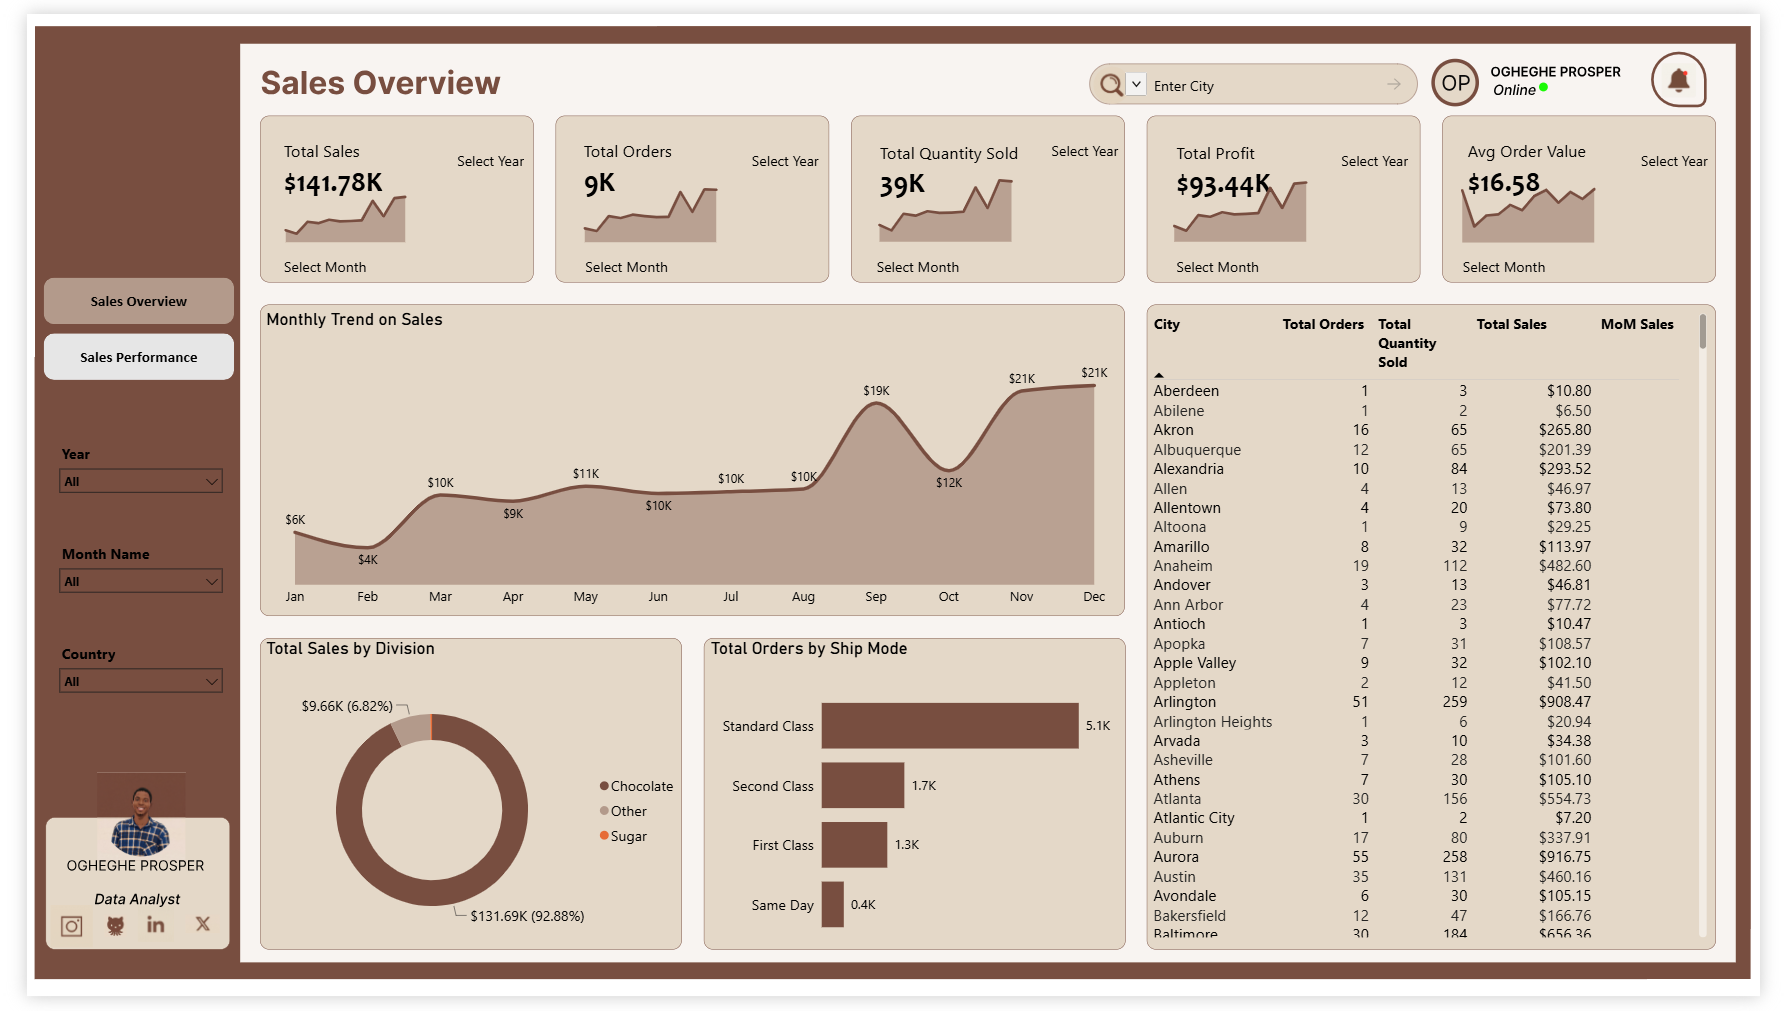

The dashboard page shown, as its layout file describes it:
{"tool":"powerbi","page":{"name":"Sales Overview","canvas":[1965,1112],"ordinal":0},"visuals":[{"type":"cardVisual","fields":{"Data":["Analysis.Total Sales"]},"box":[262.4,112.5,310.6,192.8],"z":0},{"type":"cardVisual","fields":{"Data":["Analysis.Dynamic Month Text"]},"box":[263.2,243.9,174.1,74.1],"z":1000},{"type":"cardVisual","fields":{"Data":["Time Intelligience.MoM Sales"]},"box":[384.9,239.6,147.2,81.1],"z":2000},{"type":"areaChart","fields":{"Category":["Calendar.Month No"],"Y":["Analysis.Total Sales"]},"box":[266,172,214.8,92.6],"z":3000},{"type":"cardVisual","fields":{"Data":["Analysis.Dynamic Year Text"]},"box":[459.3,122.2,140.7,74.1],"z":4000},{"type":"cardVisual","fields":{"Data":["Time Intelligience.YoY Sales"]},"box":[457.4,151.9,140.7,74.1],"z":5000},{"type":"cardVisual","fields":{"Data":["Analysis.Total Orders"]},"box":[601.3,113.6,310.6,192.8],"z":6000},{"type":"cardVisual","fields":{"Data":["Analysis.Dynamic Month Text"]},"box":[604,244,170.4,72.2],"z":7000},{"type":"cardVisual","fields":{"Data":["Time Intelligience.MoM Orders"]},"box":[724.5,239.6,150.9,73.6],"z":8000},{"type":"areaChart","fields":{"Category":["Calendar.Month No"],"Y":["Analysis.Total Orders"]},"box":[603.8,171,233.3,92.6],"z":9000},{"type":"cardVisual","fields":{"Data":["Analysis.Dynamic Year Text"]},"box":[792.6,122.2,140.7,74.1],"z":10000},{"type":"cardVisual","fields":{"Data":["Time Intelligience.YoY Orders"]},"box":[792.6,151.9,140.7,74.1],"z":11000},{"type":"cardVisual","fields":{"Data":["Analysis.Total Quantity Sold"]},"box":[937.2,114.7,310.6,192.8],"z":12000},{"type":"cardVisual","fields":{"Data":["Analysis.Dynamic Month Text"]},"box":[934,244,174.1,74.1],"z":13000},{"type":"cardVisual","fields":{"Data":["Time Intelligience.MoM Quantity Sold"]},"box":[1058.5,239.6,149.1,73.6],"z":14000},{"type":"areaChart","fields":{"Category":["Calendar.Month No"],"Y":["Analysis.Total Quantity Sold"]},"box":[938,172,234,92],"z":15000},{"type":"cardVisual","fields":{"Data":["Analysis.Dynamic Year Text"]},"box":[1131.5,111.1,140.7,74.1],"z":16000},{"type":"cardVisual","fields":{"Data":["Time Intelligience.YoY Quantity Sold"]},"box":[1132.2,151.1,140.7,74.1],"z":17000},{"type":"cardVisual","fields":{"Data":["Analysis.Total Profit"]},"box":[1273.1,114.3,310.6,192.8],"z":18000},{"type":"cardVisual","fields":{"Data":["Analysis.Dynamic Month Text"]},"box":[1273,244,172.2,74.1],"z":19000},{"type":"cardVisual","fields":{"Data":["Time Intelligience.MoM Profit"]},"box":[1403.8,239.6,150.9,73.6],"z":20000},{"type":"areaChart","fields":{"Category":["Calendar.Month No"],"Y":["Analysis.Total Profit"]},"box":[1272,172,234,92],"z":21000},{"type":"cardVisual","fields":{"Data":["Analysis.Dynamic Year Text"]},"box":[1461.1,122.2,142.6,74.1],"z":22000},{"type":"cardVisual","fields":{"Data":["Time Intelligience.YoY Profit"]},"box":[1461.1,151.9,140.7,74.1],"z":23000},{"type":"cardVisual","fields":{"Data":["Analysis.Avg Order Value"]},"box":[1604.6,112.5,310.6,192.8],"z":24000},{"type":"cardVisual","fields":{"Data":["Analysis.Dynamic Month Text"]},"box":[1598,244,172.2,74.1],"z":25000},{"type":"cardVisual","fields":{"Data":["Time Intelligience.MoM aov"]},"box":[1728.3,239.6,150.9,73.6],"z":26000},{"type":"areaChart","fields":{"Category":["Calendar.Month No"],"Y":["Analysis.Avg Order Value"]},"box":[1598,172,234,92],"z":27000},{"type":"cardVisual","fields":{"Data":["Analysis.Dynamic Year Text"]},"box":[1800,122.2,140.7,74.1],"z":28000},{"type":"cardVisual","fields":{"Data":["Time Intelligience.YoY aov"]},"box":[1800,151.9,140.7,74.1],"z":29000},{"type":"areaChart","title":"Monthly Trend on Sales ","fields":{"Category":["Calendar.Month Short"],"Y":["Analysis.Total Sales"]},"box":[266.7,333.3,981.5,346.3],"z":30000},{"type":"donutChart","fields":{"Category":["Dim_Division.Division"],"Y":["Analysis.Total Sales"]},"box":[266.7,707.4,481.5,355.6],"z":31000},{"type":"barChart","title":"Total Orders by Ship Mode","fields":{"Category":["Facts_Sales.Ship_Mode"],"Y":["Analysis.Total Orders"]},"box":[770.4,707.4,475.9,361.1],"z":32000},{"type":"tableEx","fields":{"Values":["Dim_Location.City","Analysis.Total Orders","Analysis.Total Quantity Sold","Analysis.Total Sales","Time Intelligience.MoM Sales"]},"box":[1266.7,333.3,642.6,716.7],"z":33000},{"type":"slicer","fields":{"Values":["Dim_Location.Country"]},"box":[27.2,707.4,205.6,74.1],"z":34000},{"type":"slicer","fields":{"Values":["Calendar.Month Name"]},"box":[27.2,594.4,205.6,74.1],"z":35000},{"type":"textSlicer","fields":{"Values":["Dim_Location.City"]},"box":[1232,56,342,54],"z":36000},{"type":"slicer","fields":{"Values":["Calendar.Year"]},"box":[27.2,481.5,205.6,74.1],"z":37000},{"type":"pageNavigator","box":[18,298,216,116],"z":38000},{"type":"actionButton","box":[34,1018,36,32],"z":39000},{"type":"actionButton","box":[83,1018,36,32],"z":40000},{"type":"actionButton","box":[129,1018,36,32],"z":41000},{"type":"actionButton","box":[183,1018,36,32],"z":42000}]}

Visuals, with their boxes in screenshot pixels (x1, y1, x2, y2), scaled from the page's 1965x1112 canvas onto the 1787x1011 screenshot:
cardVisual - Analysis.Total Sales: select_region(239, 102, 521, 278)
cardVisual - Analysis.Dynamic Month Text: select_region(239, 222, 398, 289)
cardVisual - Time Intelligience.MoM Sales: select_region(350, 218, 484, 292)
areaChart - Calendar.Month No x Analysis.Total Sales: select_region(242, 156, 437, 241)
cardVisual - Analysis.Dynamic Year Text: select_region(418, 111, 546, 178)
cardVisual - Time Intelligience.YoY Sales: select_region(416, 138, 544, 205)
cardVisual - Analysis.Total Orders: select_region(547, 103, 829, 279)
cardVisual - Analysis.Dynamic Month Text: select_region(549, 222, 704, 287)
cardVisual - Time Intelligience.MoM Orders: select_region(659, 218, 796, 285)
areaChart - Calendar.Month No x Analysis.Total Orders: select_region(549, 155, 761, 240)
cardVisual - Analysis.Dynamic Year Text: select_region(721, 111, 849, 178)
cardVisual - Time Intelligience.YoY Orders: select_region(721, 138, 849, 205)
cardVisual - Analysis.Total Quantity Sold: select_region(852, 104, 1135, 280)
cardVisual - Analysis.Dynamic Month Text: select_region(849, 222, 1008, 289)
cardVisual - Time Intelligience.MoM Quantity Sold: select_region(963, 218, 1098, 285)
areaChart - Calendar.Month No x Analysis.Total Quantity Sold: select_region(853, 156, 1066, 240)
cardVisual - Analysis.Dynamic Year Text: select_region(1029, 101, 1157, 168)
cardVisual - Time Intelligience.YoY Quantity Sold: select_region(1030, 137, 1158, 205)
cardVisual - Analysis.Total Profit: select_region(1158, 104, 1440, 279)
cardVisual - Analysis.Dynamic Month Text: select_region(1158, 222, 1314, 289)
cardVisual - Time Intelligience.MoM Profit: select_region(1277, 218, 1414, 285)
areaChart - Calendar.Month No x Analysis.Total Profit: select_region(1157, 156, 1370, 240)
cardVisual - Analysis.Dynamic Year Text: select_region(1329, 111, 1458, 178)
cardVisual - Time Intelligience.YoY Profit: select_region(1329, 138, 1457, 205)
cardVisual - Analysis.Avg Order Value: select_region(1459, 102, 1742, 278)
cardVisual - Analysis.Dynamic Month Text: select_region(1453, 222, 1610, 289)
cardVisual - Time Intelligience.MoM aov: select_region(1572, 218, 1709, 285)
areaChart - Calendar.Month No x Analysis.Avg Order Value: select_region(1453, 156, 1666, 240)
cardVisual - Analysis.Dynamic Year Text: select_region(1637, 111, 1765, 178)
cardVisual - Time Intelligience.YoY aov: select_region(1637, 138, 1765, 205)
"Monthly Trend on Sales " areaChart: select_region(243, 303, 1135, 618)
donutChart - Dim_Division.Division x Analysis.Total Sales: select_region(243, 643, 680, 966)
"Total Orders by Ship Mode" barChart: select_region(701, 643, 1133, 971)
tableEx - Dim_Location.City x Analysis.Total Orders: select_region(1152, 303, 1736, 955)
slicer - Dim_Location.Country: select_region(25, 643, 212, 711)
slicer - Calendar.Month Name: select_region(25, 540, 212, 608)
textSlicer - Dim_Location.City: select_region(1120, 51, 1431, 100)
slicer - Calendar.Year: select_region(25, 438, 212, 505)
pageNavigator: select_region(16, 271, 213, 376)
actionButton: select_region(31, 926, 64, 955)
actionButton: select_region(75, 926, 108, 955)
actionButton: select_region(117, 926, 150, 955)
actionButton: select_region(166, 926, 199, 955)
